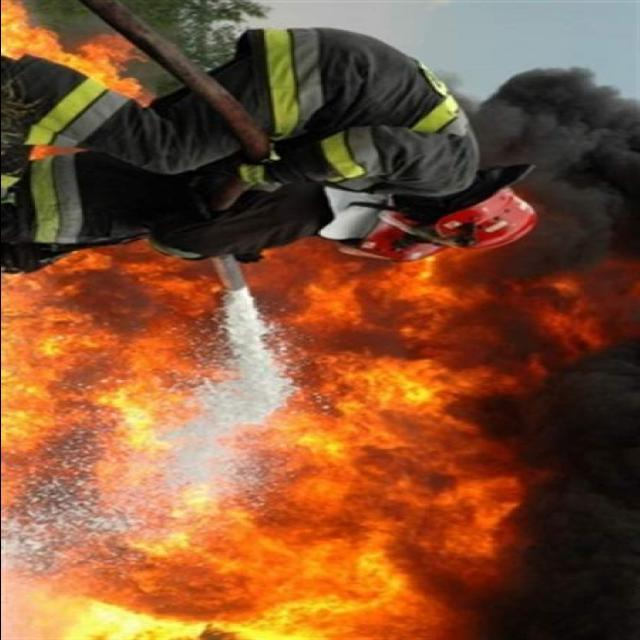Fire: (0, 29, 596, 640)
